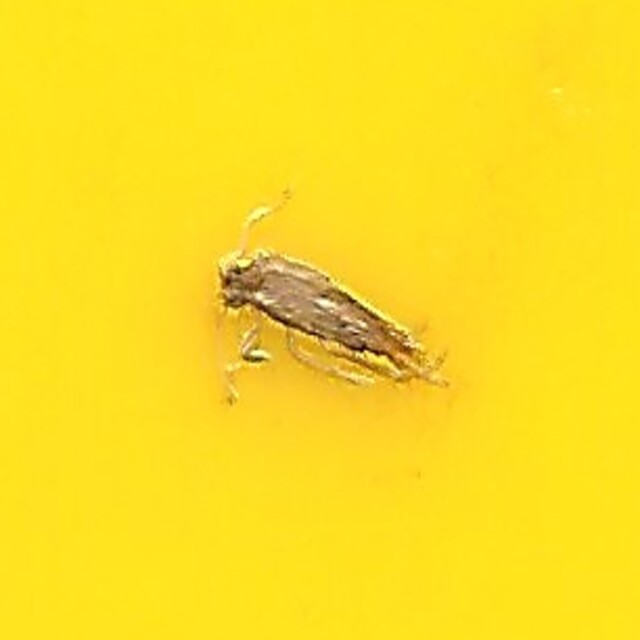Trichoptera: (209, 252, 431, 388)
